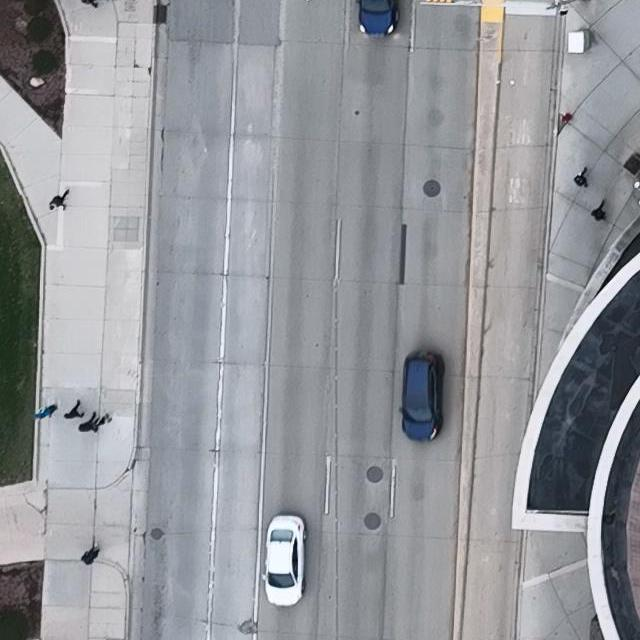car: (400, 350, 446, 442), (262, 515, 306, 606), (356, 0, 399, 36)
